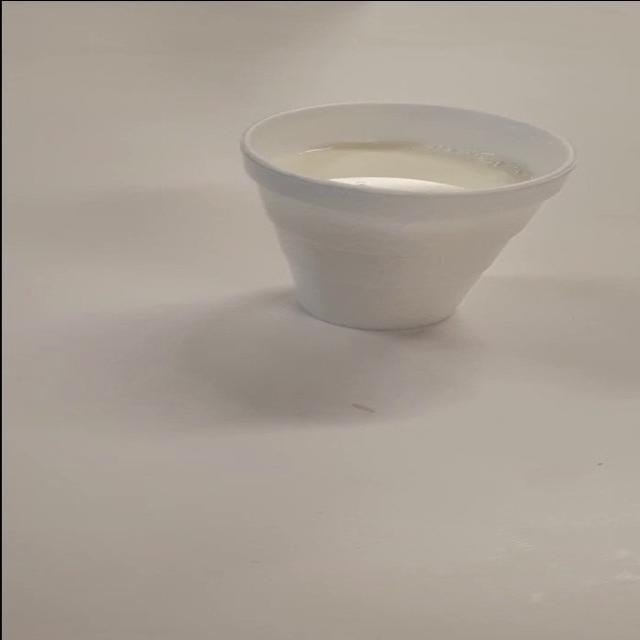Milk: (216, 94, 623, 350)
